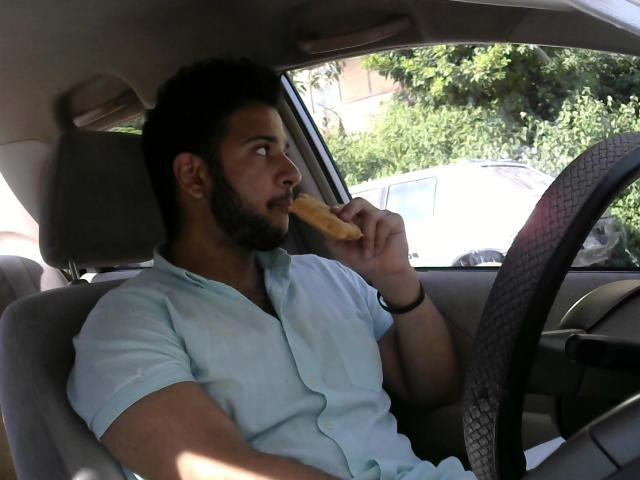Eating: (282, 186, 364, 249)
